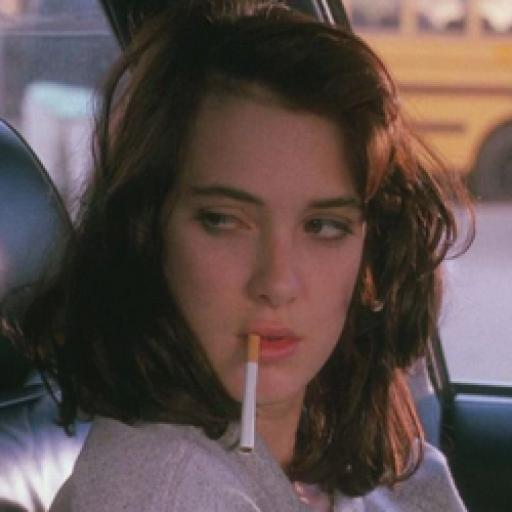terdeteksi merokok: (183, 234, 346, 467)
